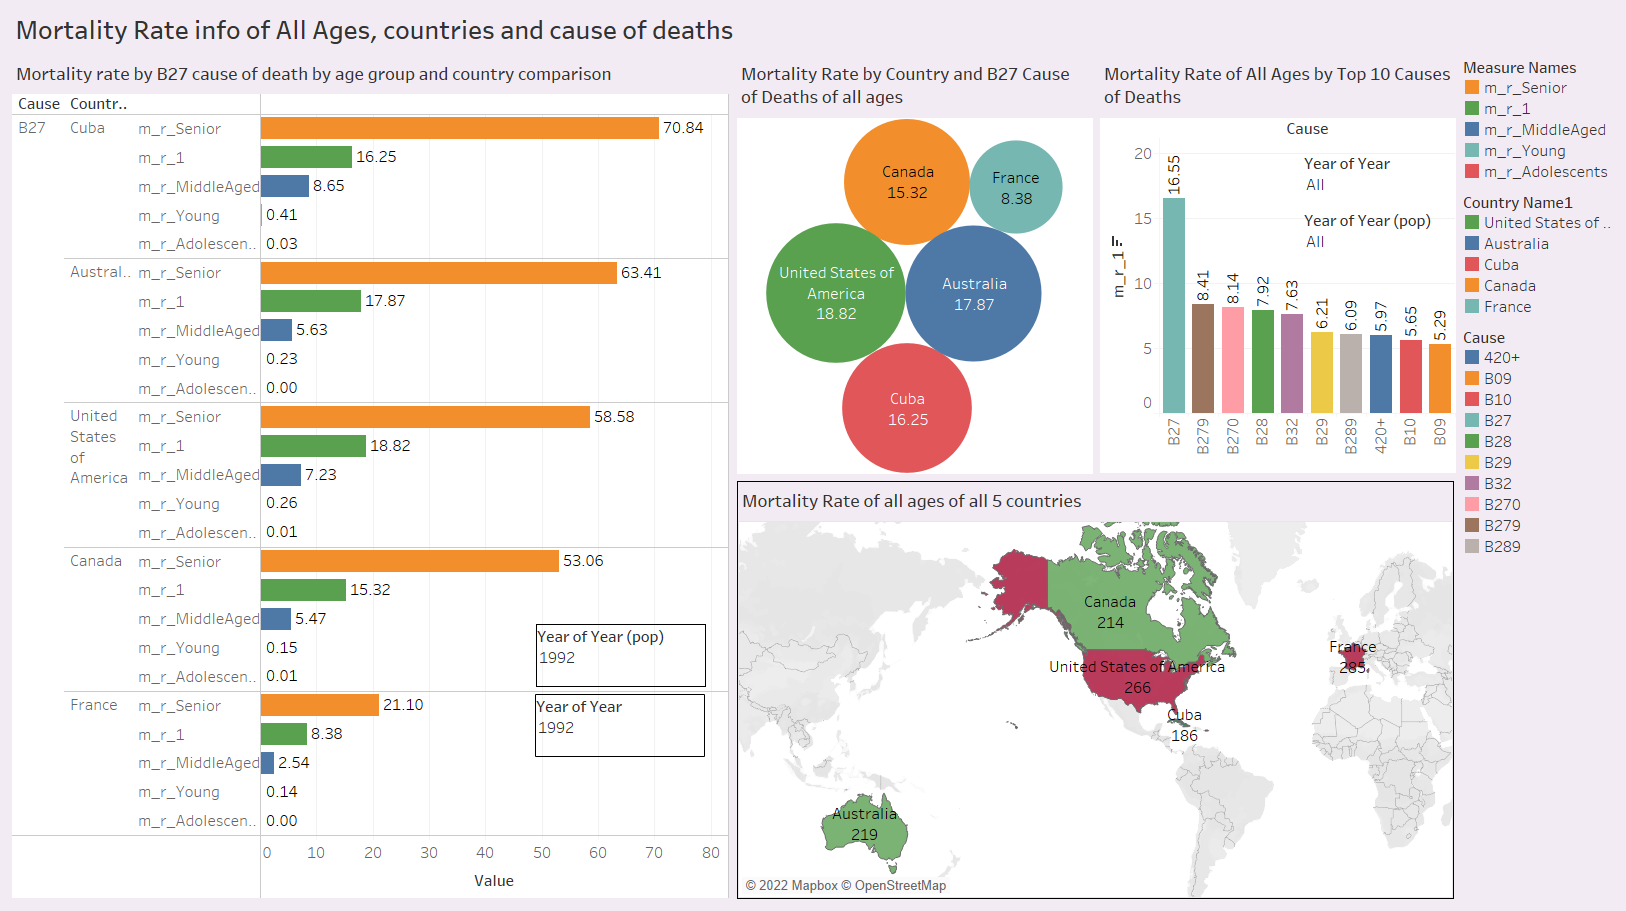

This screenshot's page, from the dashboard's own definition file:
{"tool":"tableau","page":{"name":"Mortality Rate info of All Ages (2)","canvas":[1000,1000],"units":"permille","ordinal":2},"visuals":[{"type":"title","box":[4.9,8.8,990.2,47.2]},{"type":"worksheet","title":"Q4","mark":"Automatic","rows":["Cause","name"],"box":[4.9,56,445.9,935.2]},{"type":"worksheet","title":"Q3","mark":"Circle","box":[450.8,56,222.9,467.6]},{"type":"worksheet","title":"Q2","mark":"Automatic","rows":["Calculation_701154190742810624"],"cols":["Cause"],"box":[673.7,56,222.9,467.6]},{"type":"legend","title":"Q4","param":"[federated.04rxcd90pjbnn615xpdo81cquxig].[:Measure Names]","box":[896.7,56,98.4,148.2]},{"type":"filter","title":"Q2","param":"[federated.04rxcd90pjbnn615xpdo81cquxig].[yr:Year:ok]","box":[802,166.8,73.2,57.1]},{"type":"legend","title":"Q3","param":"[federated.04rxcd90pjbnn615xpdo81cquxig].[none:name:nk]","box":[896.7,204.2,98.4,148.2]},{"type":"filter","title":"Q2","param":"[federated.04rxcd90pjbnn615xpdo81cquxig].[yr:Year (pop):ok]","box":[798.9,234.9,79.3,58.2]},{"type":"legend","title":"Q2","param":"[federated.04rxcd90pjbnn615xpdo81cquxig].[none:Cause:nk]","box":[896.7,352.4,98.4,263.4]},{"type":"worksheet","title":"Q1","mark":"Automatic","box":[450.8,523.6,445.9,467.6]},{"type":"filter","title":"Q1","param":"[federated.04rxcd90pjbnn615xpdo81cquxig].[yr:Year (pop):ok]","box":[329.6,685,104.5,69.2]},{"type":"filter","title":"Q1","param":"[federated.04rxcd90pjbnn615xpdo81cquxig].[yr:Year:ok]","box":[329,761.8,104.5,69.2]}]}

Visuals, with their boxes on the dashboard's canvas, which has no fixed pixel size, in thousandths of its width and height (x1, y1, x2, y2). These are canvas units, not pixel positions in the 1626x911 screenshot, which may show the page scaled, cropped or inside an application window:
title: (5, 9, 995, 56)
"Q4" worksheet: (5, 56, 451, 991)
"Q3" worksheet (Circle marks): (451, 56, 674, 524)
"Q2" worksheet: (674, 56, 897, 524)
"Q4" legend: (897, 56, 995, 204)
"Q2" filter: (802, 167, 875, 224)
"Q3" legend: (897, 204, 995, 352)
"Q2" filter: (799, 235, 878, 293)
"Q2" legend: (897, 352, 995, 616)
"Q1" worksheet: (451, 524, 897, 991)
"Q1" filter: (330, 685, 434, 754)
"Q1" filter: (329, 762, 434, 831)
